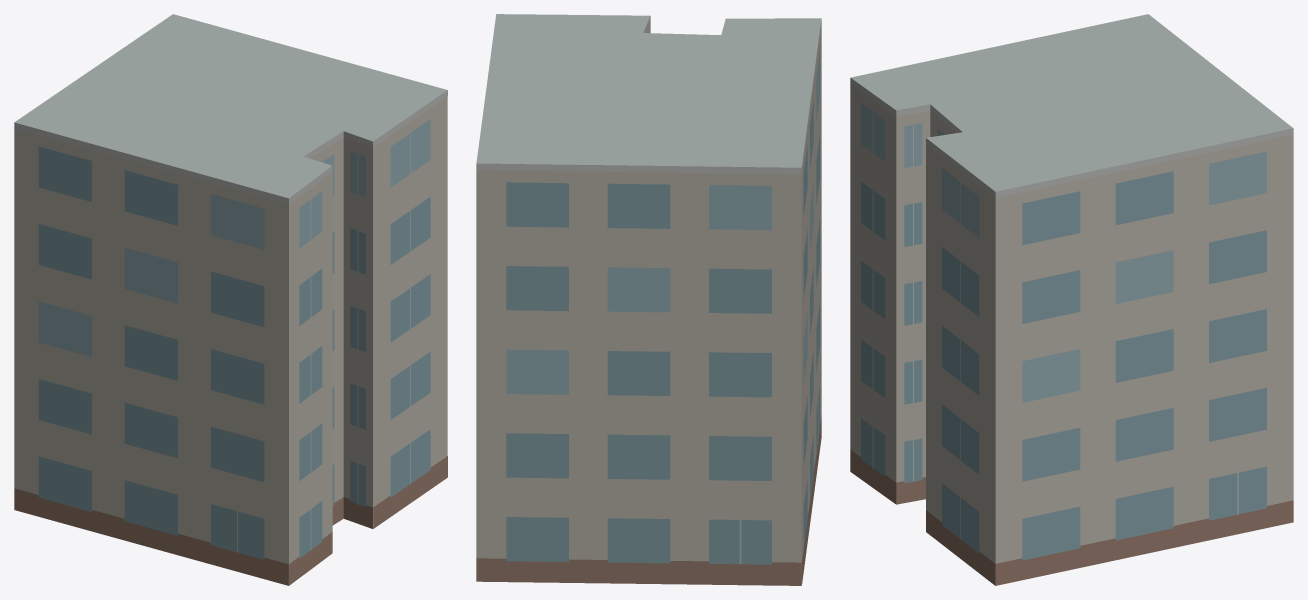
The model's file is survey-upis-32744823.glb.
3 renders of one model, left to right at view 1: azimuth 30°, elevation 25°; view 2: azimuth 150°, elevation 25°; view 3: azimuth 270°, elevation 25°, orthographic. The views are drawn at different scales.
Visible parts, largest first — view 1: survey-upis-32744823.tmp; view 2: survey-upis-32744823.tmp; view 3: survey-upis-32744823.tmp.
Boxes of the visible parts, bbox=[...] form: survey-upis-32744823.tmp: bbox=[14, 14, 447, 585]; survey-upis-32744823.tmp: bbox=[476, 14, 821, 585]; survey-upis-32744823.tmp: bbox=[850, 14, 1293, 585].
Size of the model in its own units: 14.76 by 15.25 by 15.55.
